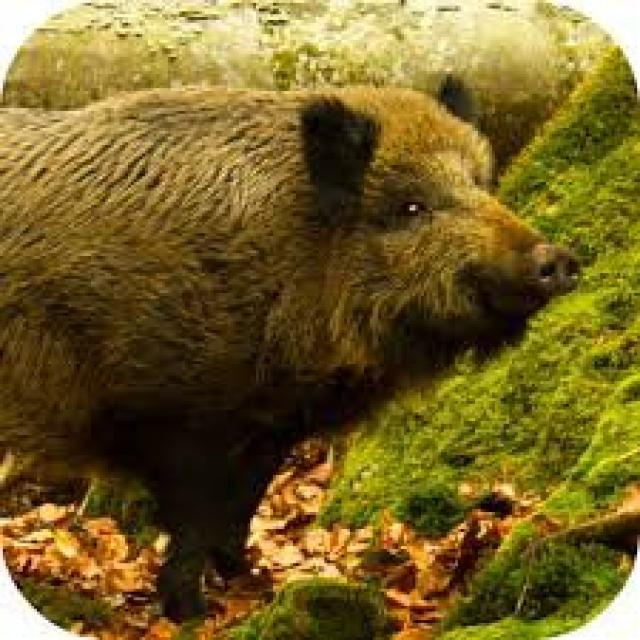Boar: (0, 87, 552, 593)
